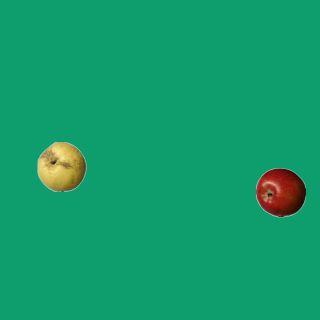Apple Braeburn: (255, 167, 305, 217)
Apple Golden 1: (36, 141, 86, 191)
